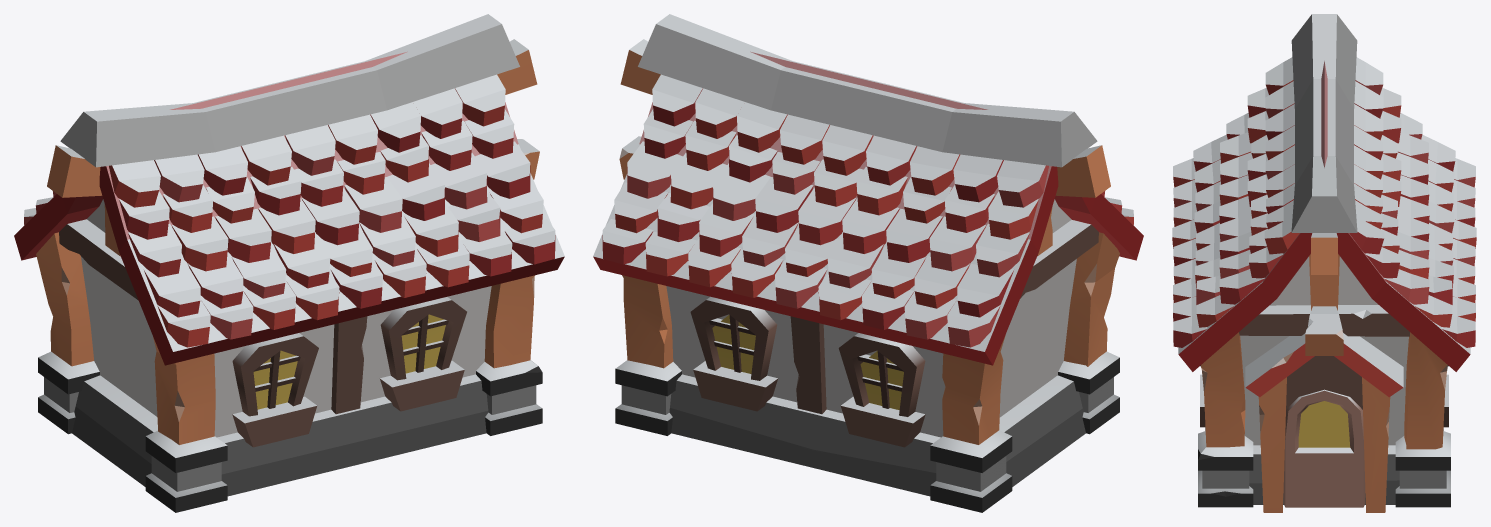
The model's file is sw_house_c.glb.
3 views of the same model, side by side, from view 1: azimuth 30°, elevation 25°; view 2: azimuth 150°, elevation 25°; view 3: azimuth 270°, elevation 25° (orthographic). The views are drawn at different scales.
Parts seen in each view (by area): view 1: sw_house_c; view 2: sw_house_c; view 3: sw_house_c.
Part boxes in pixels (box(x1,y1,x2,y2)): sw_house_c: box(14, 14, 564, 512); sw_house_c: box(593, 14, 1143, 512); sw_house_c: box(1172, 14, 1476, 512).
Bounding box in the file's own units: 8.1 × 5.7 × 4.89.
